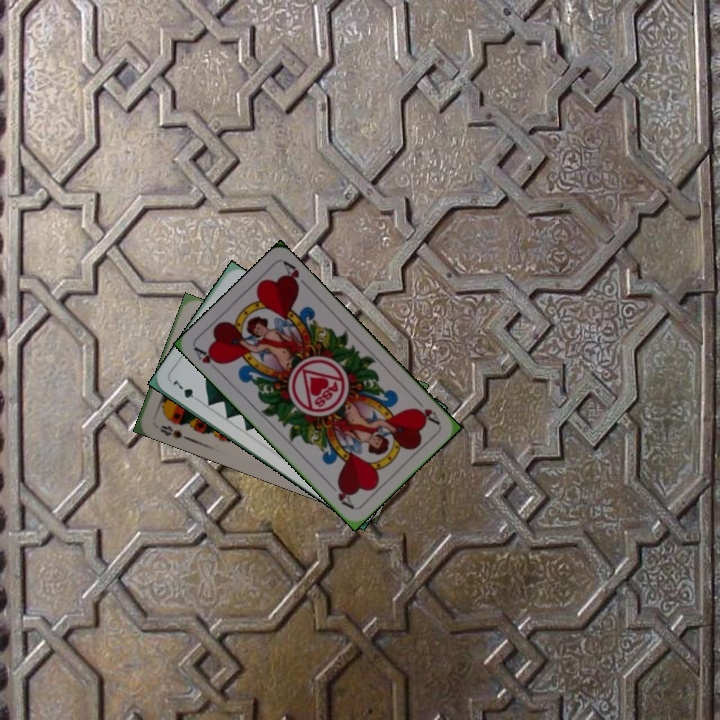G7: (168, 375, 203, 405)
HA: (410, 394, 442, 427), (191, 344, 225, 368)
S8: (156, 421, 190, 442)
